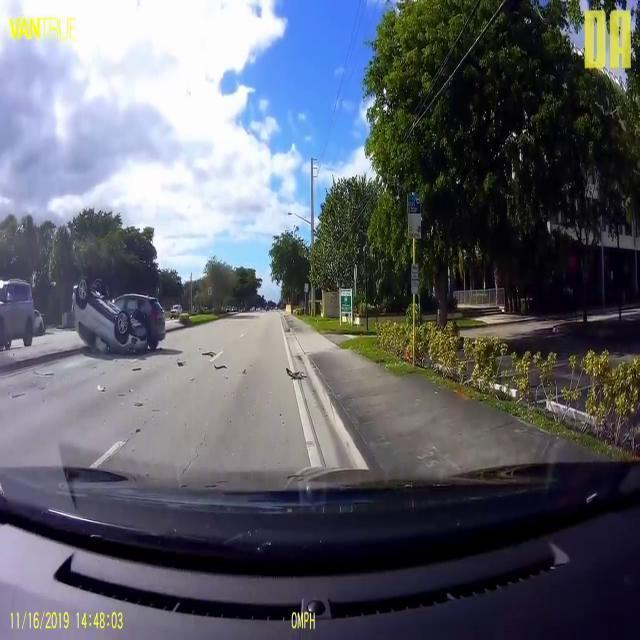accident: (70, 280, 168, 360)
